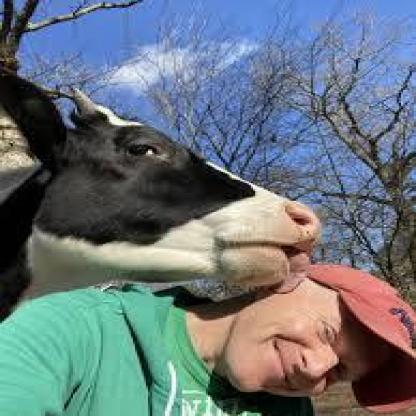cow: (0, 84, 320, 296)
